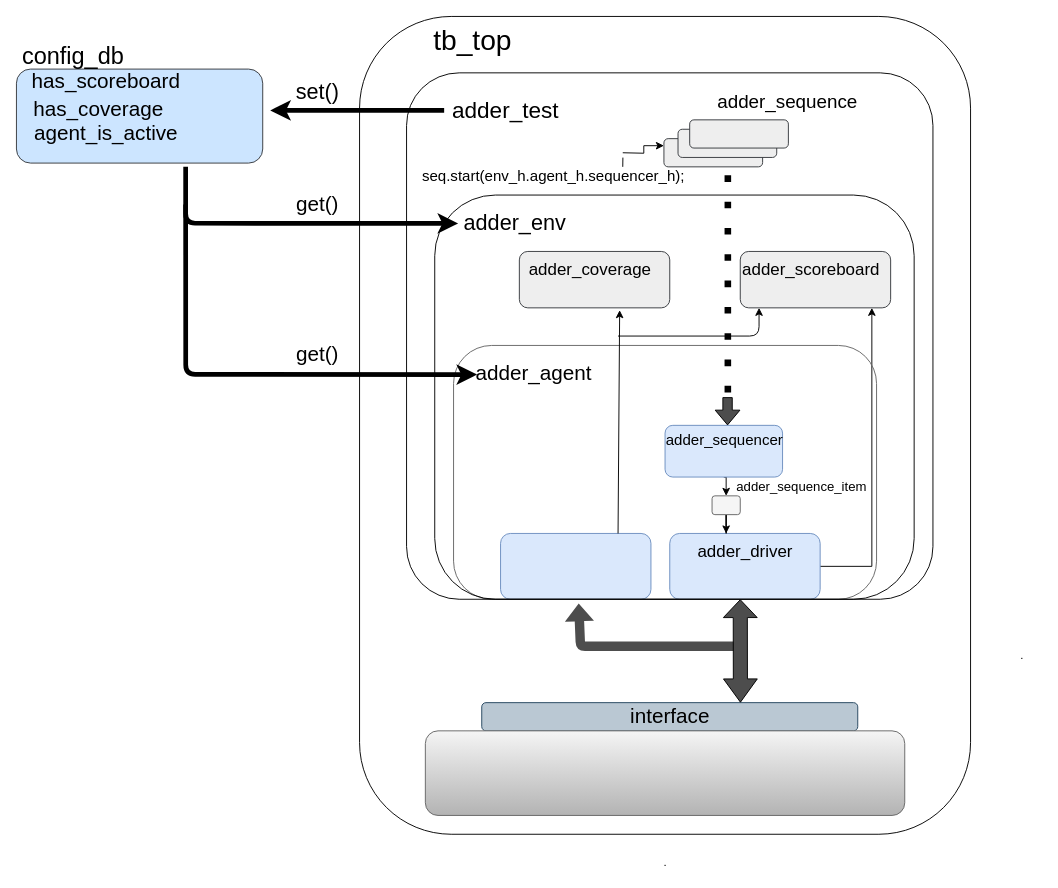
This 1058x888 diagram has some shape labels left out. Here are the shapes that lost their labels. From the top down, the centre of each, then its label:
At point 575,566: "adder_monitor".
At point 664,772: "ADDER (DUT)".
